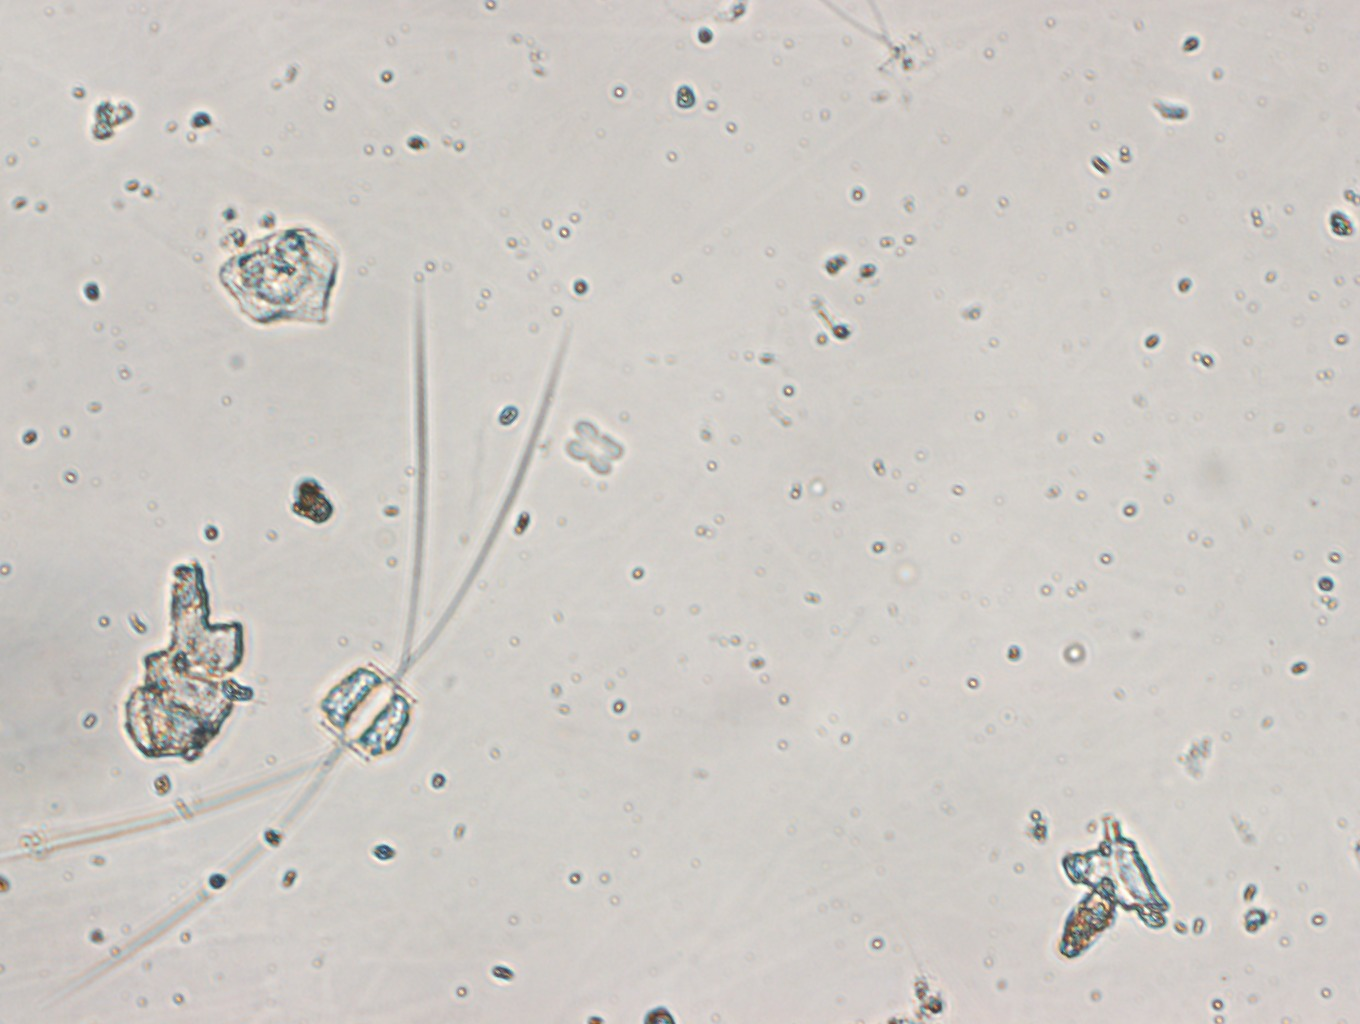chaetoceros: (13, 258, 576, 1007)
